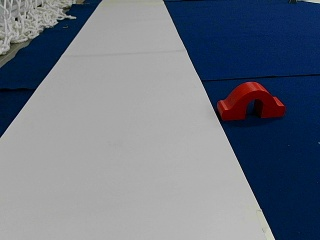bridge: (218, 82, 284, 118)
